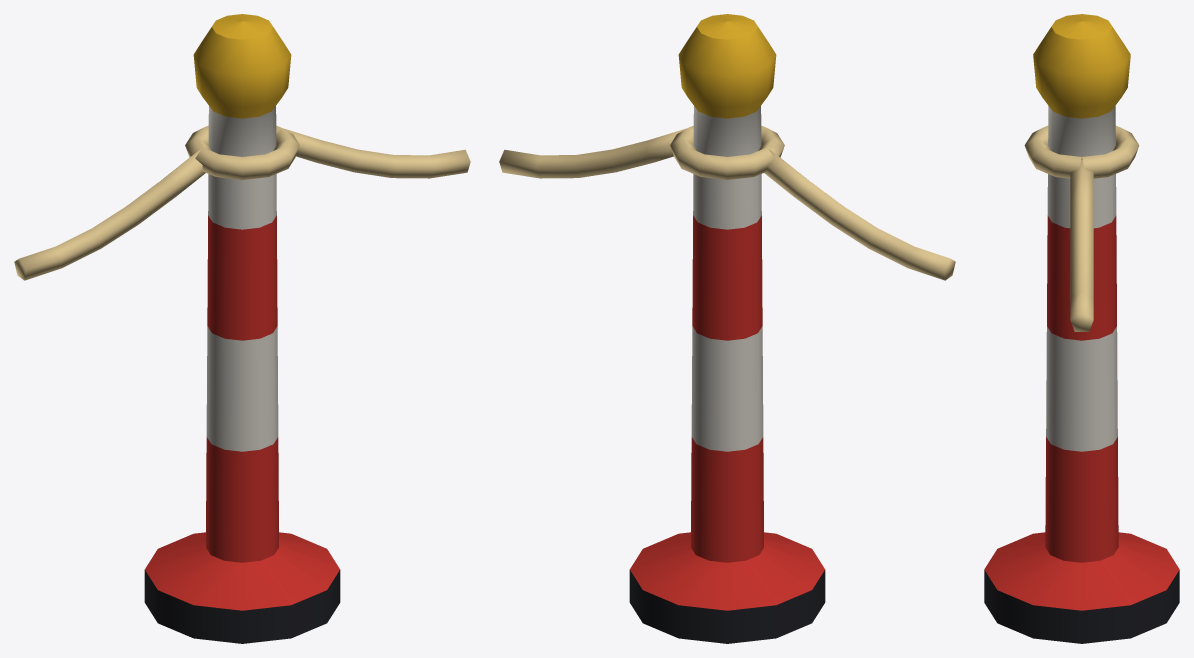
The model's file is rope_post.glb.
3 renders of one model, left to right at view 1: azimuth 30°, elevation 25°; view 2: azimuth 150°, elevation 25°; view 3: azimuth 270°, elevation 25°, orthographic.
Parts seen in each view (by area): view 1: rope_post_mesh; view 2: rope_post_mesh; view 3: rope_post_mesh.
Boxes of the visible parts, left/top/right/bottom form: rope_post_mesh: left=14, top=14, right=470, bottom=643; rope_post_mesh: left=499, top=14, right=955, bottom=643; rope_post_mesh: left=984, top=14, right=1179, bottom=643.
Size of the model in its own units: 0.8433 by 1.05 by 0.32.
